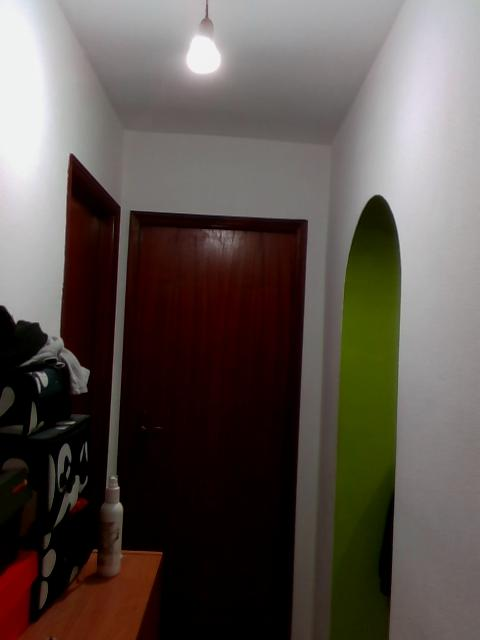closed_door: (117, 209, 306, 639)
